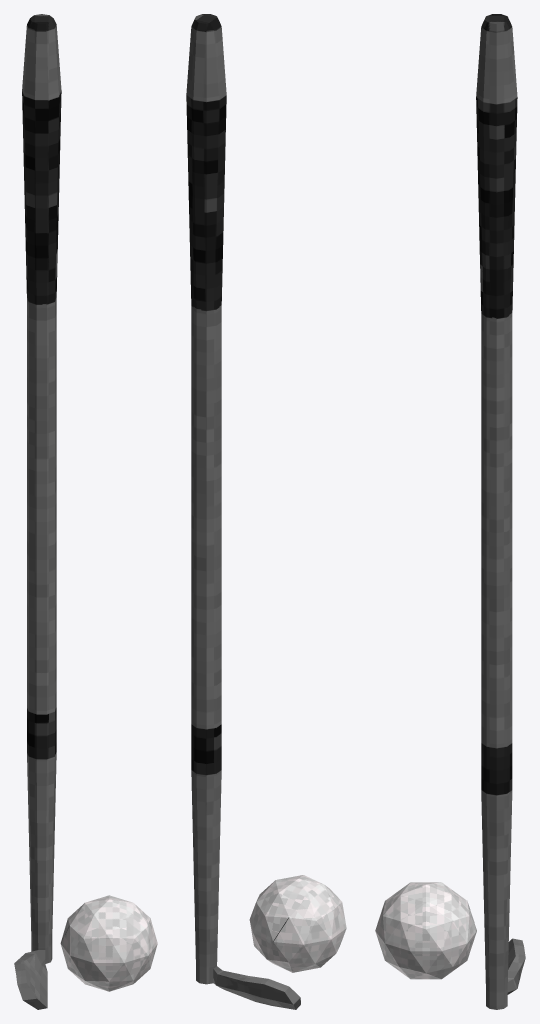
File: startObject.fbx
3 renders of one model, left to right at view 1: azimuth 90°, elevation 25°; view 2: azimuth 150°, elevation 25°; view 3: azimuth 270°, elevation 25°, orthographic. The views are drawn at different scales.
Parts seen in each view (by area): view 1: GolfClub, Ball; view 2: GolfClub, Ball; view 3: GolfClub, Ball.
Part boxes in pixels (x1=…): GolfClub: x1=14, y1=14, x2=61, y2=1009; Ball: x1=60, y1=895, x2=157, y2=991; GolfClub: x1=186, y1=14, x2=300, y2=1009; Ball: x1=249, y1=875, x2=346, y2=972; GolfClub: x1=476, y1=14, x2=525, y2=1009; Ball: x1=375, y1=882, x2=476, y2=979.
Size of the model in its own units: 135 by 1078 by 148.
Materials: 3 (3 with a texture image).
